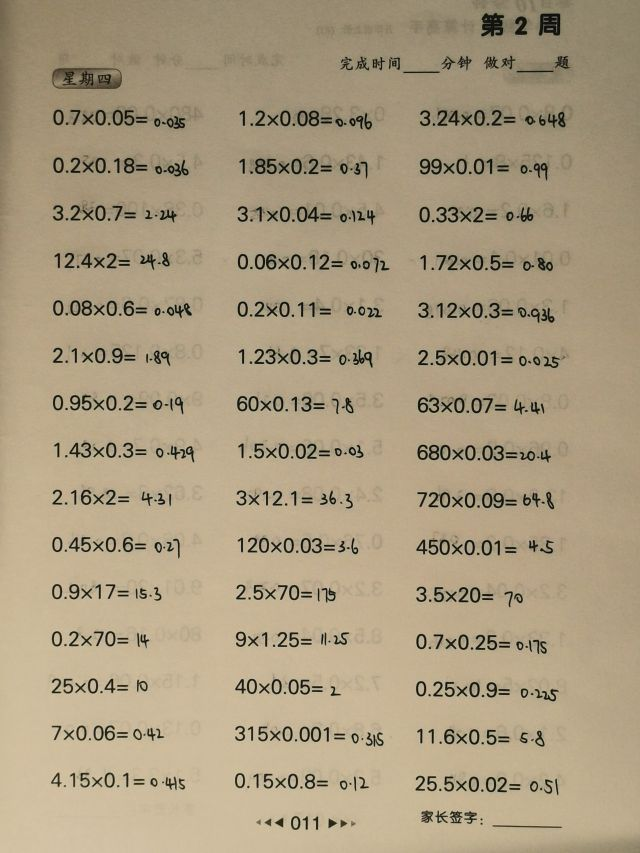equation: (410, 771, 564, 798), (48, 104, 191, 133), (415, 104, 569, 130), (233, 250, 393, 275), (49, 437, 197, 464), (47, 532, 183, 561), (411, 677, 562, 703), (230, 722, 387, 747), (414, 297, 558, 324), (48, 151, 192, 178), (414, 345, 569, 370), (234, 297, 386, 322), (413, 488, 559, 514), (235, 344, 377, 370), (48, 295, 195, 320), (415, 154, 551, 181), (233, 202, 379, 227), (413, 535, 558, 560), (411, 629, 550, 655), (48, 390, 187, 416), (412, 440, 555, 465), (235, 154, 371, 180), (413, 724, 548, 750), (235, 106, 375, 131), (229, 769, 372, 793), (47, 768, 189, 792), (417, 251, 558, 275), (413, 392, 548, 417), (234, 532, 362, 558), (235, 439, 368, 464), (48, 200, 180, 225), (231, 485, 356, 511), (49, 342, 174, 368), (51, 248, 174, 274), (49, 485, 176, 510), (231, 391, 357, 416), (47, 579, 165, 605), (412, 582, 526, 608), (415, 202, 538, 226), (231, 628, 353, 651), (48, 722, 169, 745), (230, 674, 343, 698), (231, 580, 339, 605), (48, 627, 154, 651), (49, 674, 153, 698)
